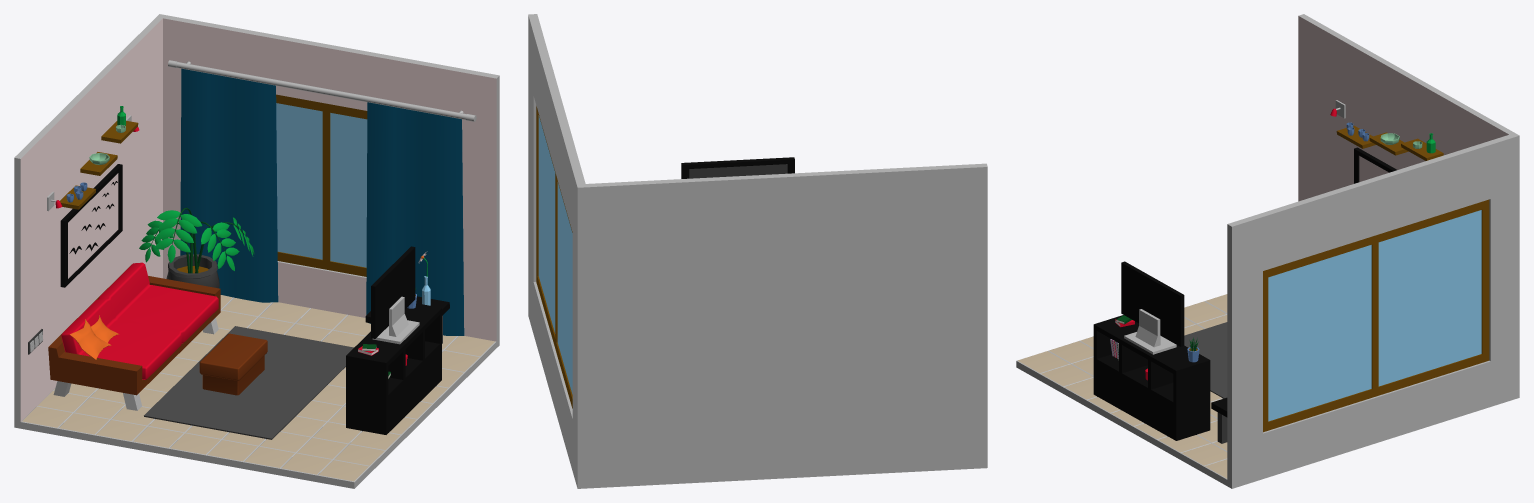
File: Livingroom.fbx
The picture shows the model from 3 angles, left to right: view 1: azimuth 30°, elevation 25°; view 2: azimuth 150°, elevation 25°; view 3: azimuth 270°, elevation 25°; orthographic projection. The views are drawn at different scales.
Parts seen in each view (by area): view 1: Livingroom_Walls, Livingroom_Curtains, Livingroom_Floortile, Livingroom_Window, Livingroom_Sofa, Livingroom_Carpet, Livingroom_Shelf, Livingroom_Flower1, Livingroom_Picture, Livingroom_TV, Livingroom_Ottoman, Livingroom_Cornice (+2 smaller); view 2: Livingroom_Walls, Livingroom_Window, Livingroom_TV; view 3: Livingroom_Walls, Livingroom_Window, Livingroom_Shelf, Livingroom_Floortile, Livingroom_TV, Livingroom_Carpet, Livingroom_Shelves, Livingroom_Picture, Livingroom_Table.
Boxes of the visible parts, left/top/right/bottom form: Livingroom_Walls: left=14, top=14, right=499, bottom=488; Livingroom_Curtains: left=180, top=68, right=464, bottom=335; Livingroom_Floortile: left=21, top=295, right=495, bottom=482; Livingroom_Window: left=276, top=94, right=367, bottom=276; Livingroom_Sofa: left=48, top=262, right=220, bottom=410; Livingroom_Carpet: left=144, top=326, right=353, bottom=439; Livingroom_Shelf: left=346, top=303, right=441, bottom=434; Livingroom_Flower1: left=139, top=207, right=254, bottom=288; Livingroom_Picture: left=60, top=164, right=122, bottom=287; Livingroom_TV: left=371, top=246, right=419, bottom=344; Livingroom_Ottoman: left=199, top=333, right=267, bottom=395; Livingroom_Cornice: left=168, top=60, right=476, bottom=121; Livingroom_Walls: left=528, top=14, right=987, bottom=488; Livingroom_Window: left=536, top=106, right=572, bottom=408; Livingroom_TV: left=681, top=157, right=794, bottom=178; Livingroom_Walls: left=1016, top=14, right=1519, bottom=488; Livingroom_Window: left=1263, top=199, right=1489, bottom=432; Livingroom_Shelf: left=1093, top=315, right=1210, bottom=440; Livingroom_Floortile: left=1016, top=294, right=1227, bottom=479; Livingroom_TV: left=1121, top=261, right=1184, bottom=354; Livingroom_Carpet: left=1184, top=322, right=1227, bottom=398; Livingroom_Shelves: left=1336, top=125, right=1443, bottom=160; Livingroom_Picture: left=1354, top=147, right=1396, bottom=183; Livingroom_Table: left=1211, top=397, right=1227, bottom=443.
Size of the model in its own units: 700 by 402 by 700.
